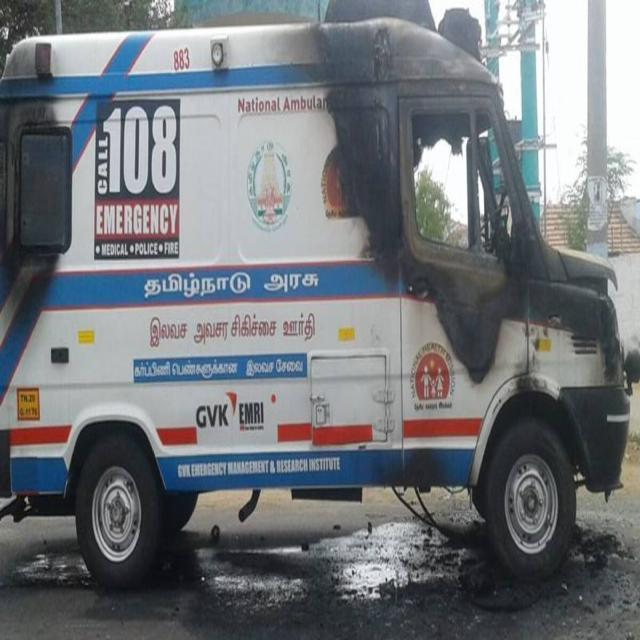ambulance: (4, 21, 623, 584)
